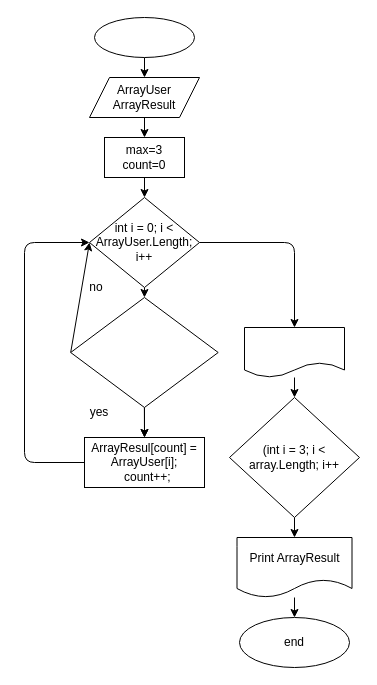
Image size: 377x685. Some labels were removed from this diagram. The shapes that lost their labels are listed below. From the top down, each one's box as (x1, y1, x2, y2) in pixels, then its label:
(94, 16, 194, 58): start
(70, 296, 218, 408): ArrayUser[i].Length <= max
(244, 326, 344, 378): Output ArrayUser
